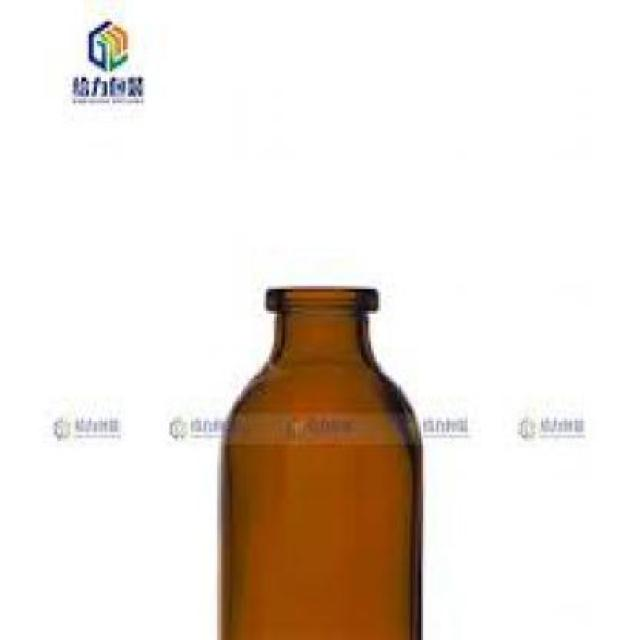kaca: (217, 283, 420, 637)
